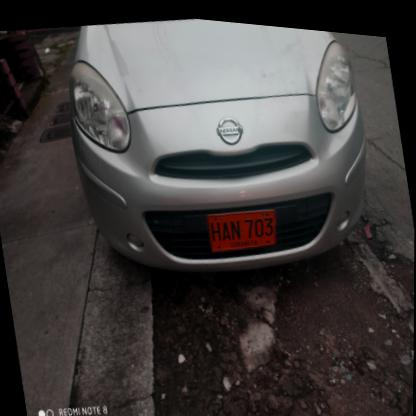placa: (202, 195, 283, 257)
